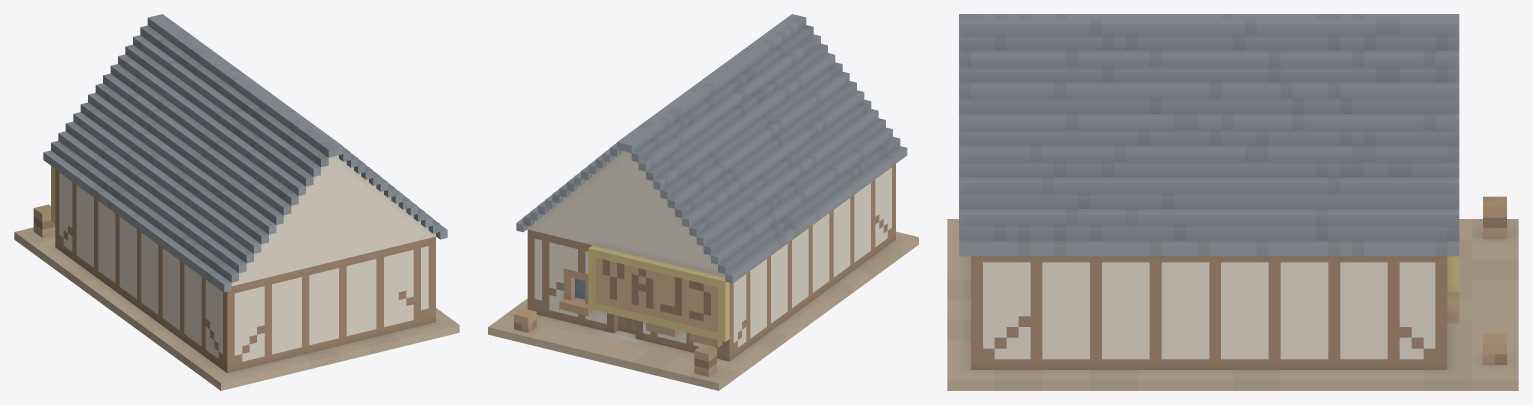
The model's file is clay_pit.glb.
The picture shows the model from 3 angles, left to right: view 1: azimuth 30°, elevation 25°; view 2: azimuth 150°, elevation 25°; view 3: azimuth 270°, elevation 25°; orthographic projection. The views are drawn at different scales.
Parts seen in each view (by area): view 1: clay_pit; view 2: clay_pit; view 3: clay_pit.
Part boxes in pixels (x1,y1,x2,y2): clay_pit: (14, 14, 459, 390); clay_pit: (488, 14, 918, 390); clay_pit: (947, 14, 1518, 390).
Size of the model in its own units: 4 by 3.38 by 6.
